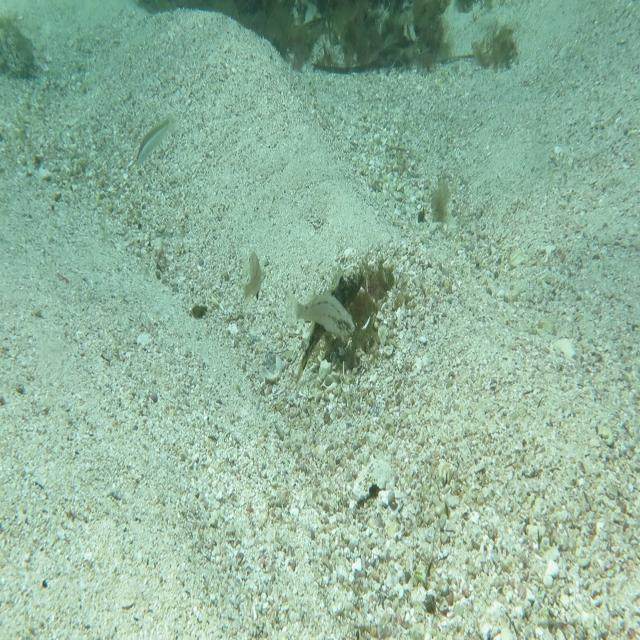Coris_julis_female: (133, 106, 180, 174)
ROLL: (292, 254, 368, 386)
female: (282, 269, 351, 340)
nest: (304, 249, 402, 364)
other_fish: (237, 248, 267, 303)
